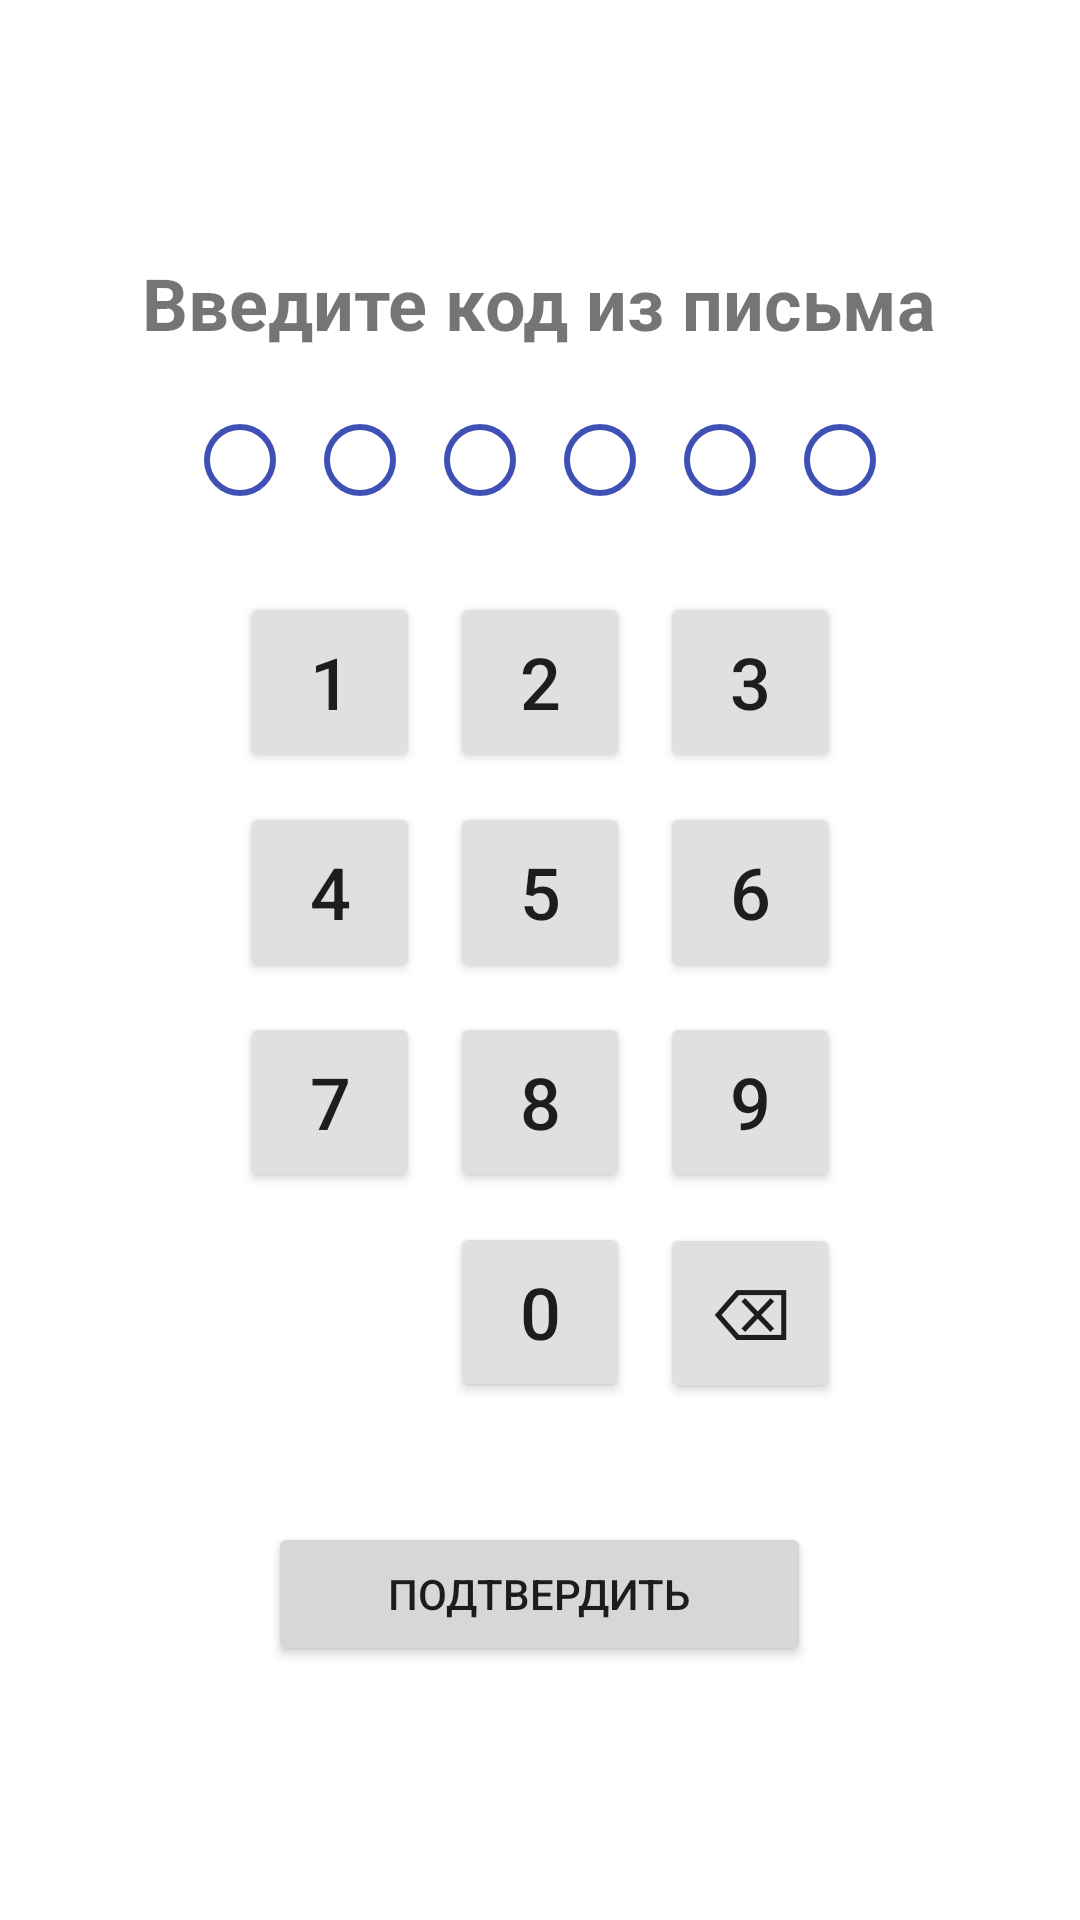

Icons on this 1080 × 1920 Android screen, each with the point to tap as (x,y):
circle pin: (240,460), (360,460), (480,460), (600,460), (720,460), (840,460)
